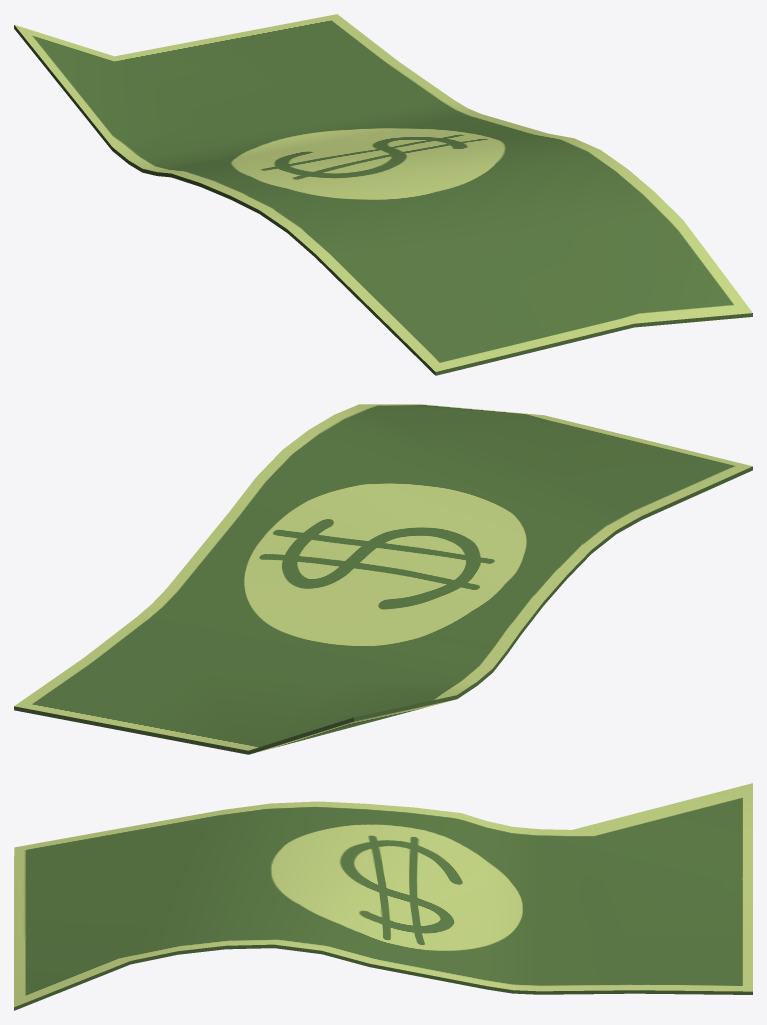
File: SM_DollarBill.fbx
3 renders of one model, top to bottom at view 1: azimuth 30°, elevation 25°; view 2: azimuth 150°, elevation 25°; view 3: azimuth 270°, elevation 25°, orthographic. The views are drawn at different scales.
Visible parts, largest first — view 1: twodollarbill1; view 2: twodollarbill1; view 3: twodollarbill1.
Boxes of the visible parts, x1=… form: twodollarbill1: x1=14, y1=14, x2=752, y2=375; twodollarbill1: x1=14, y1=404, x2=752, y2=754; twodollarbill1: x1=14, y1=783, x2=752, y2=1010.
Size of the model in its own units: 14.91 by 3.42 by 30.36.
